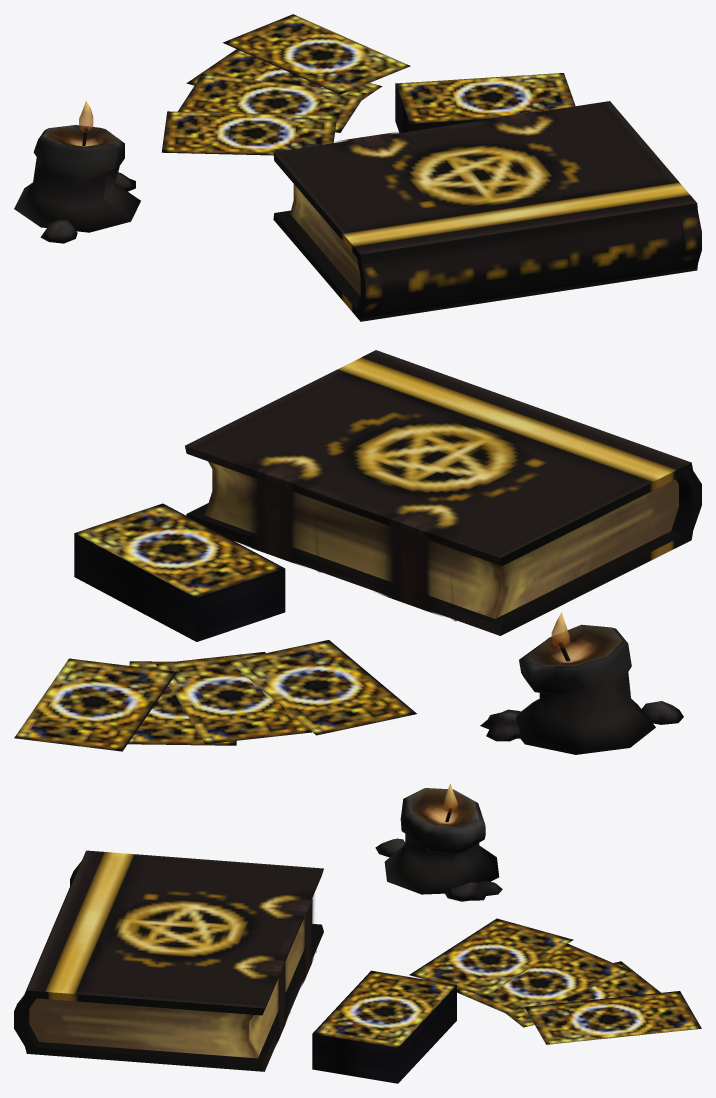
The model's file is tarot.glb.
3 views of the same model, one above another, from view 1: azimuth 30°, elevation 25°; view 2: azimuth 150°, elevation 25°; view 3: azimuth 270°, elevation 25° (orthographic). The views are drawn at different scales.
Parts seen in each view (by area): view 1: GrimoireTarotCandle; view 2: GrimoireTarotCandle; view 3: GrimoireTarotCandle.
Part boxes in pixels (box(x1,y1,x2,y2)): GrimoireTarotCandle: box(14, 14, 701, 321); GrimoireTarotCandle: box(14, 350, 701, 754); GrimoireTarotCandle: box(14, 783, 701, 1083).
Bounding box in the file's own units: 2.26 × 0.4125 × 2.74.
Materials: 1 (1 with a texture image).
